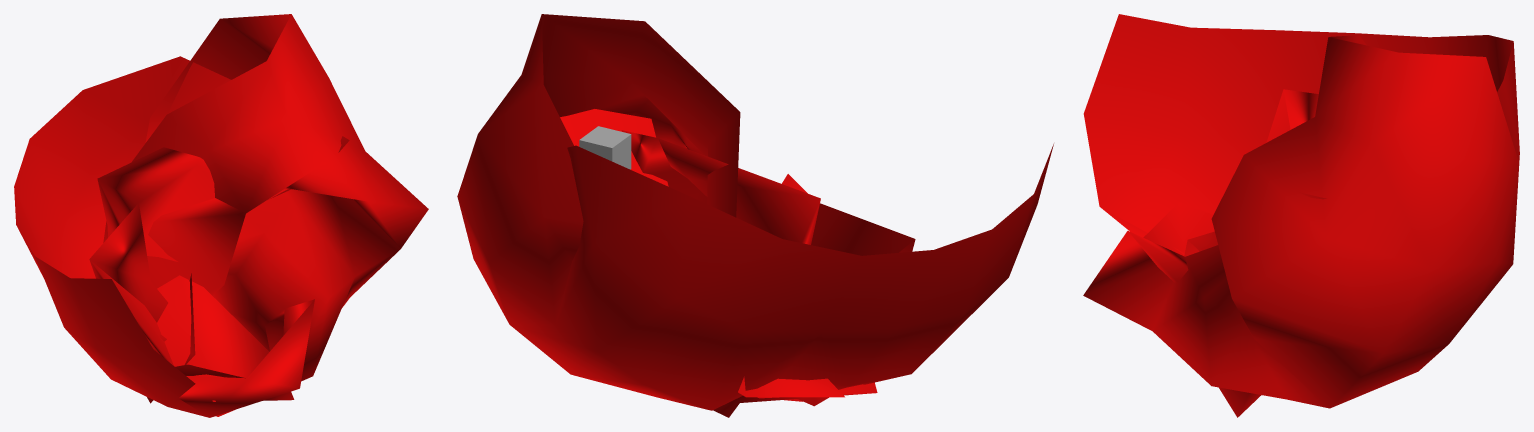
Rendered from fbx_PaperBall_v9.fbx.
3 views of the same model, side by side, from view 1: azimuth 30°, elevation 25°; view 2: azimuth 150°, elevation 25°; view 3: azimuth 270°, elevation 25° (orthographic). The views are drawn at different scales.
Visible parts, largest first — view 1: pCube2; view 2: pCube2; view 3: pCube2.
Part boxes in pixels (x1,y1,x2,y2): pCube2: [14, 14, 428, 417]; pCube2: [457, 14, 1053, 417]; pCube2: [1083, 14, 1519, 417].
Bounding box in the file's own units: 14.42 × 11.85 × 11.64.
